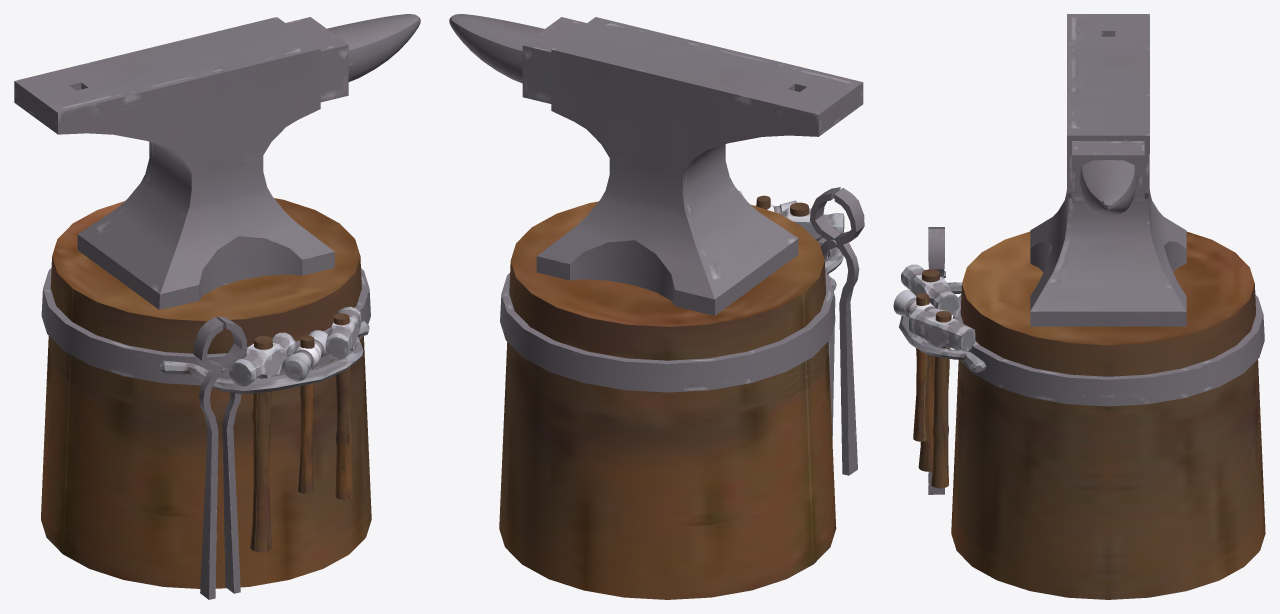
The model's file is Anvil_Log.gltf.
The picture shows the model from 3 angles, left to right: view 1: azimuth 30°, elevation 25°; view 2: azimuth 150°, elevation 25°; view 3: azimuth 270°, elevation 25°; orthographic projection. The views are drawn at different scales.
Parts seen in each view (by area): view 1: Anvil_Log; view 2: Anvil_Log; view 3: Anvil_Log.
Boxes of the visible parts, box(x1,y1,x2,y2) form: Anvil_Log: box(14, 14, 420, 599); Anvil_Log: box(449, 14, 864, 599); Anvil_Log: box(893, 14, 1265, 599).
Bounding box in the file's own units: 0.9293 × 1.07 × 0.8214.
3 materials, 3 textured.
